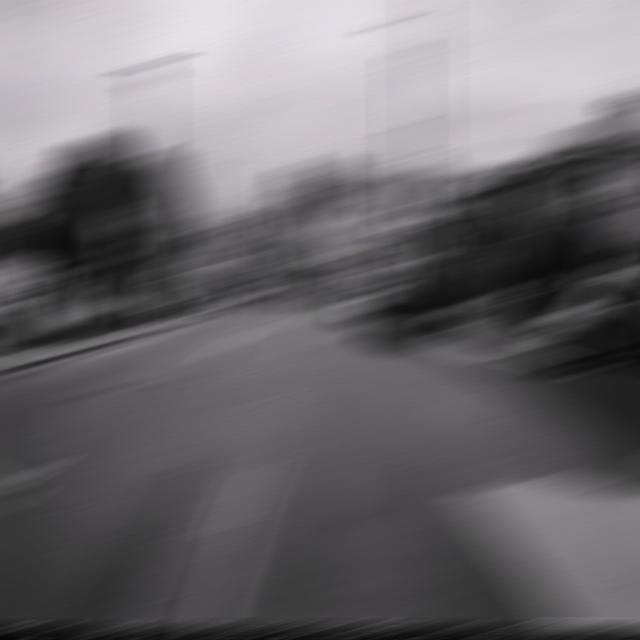pedestrianCrossing: (372, 228, 406, 248)
